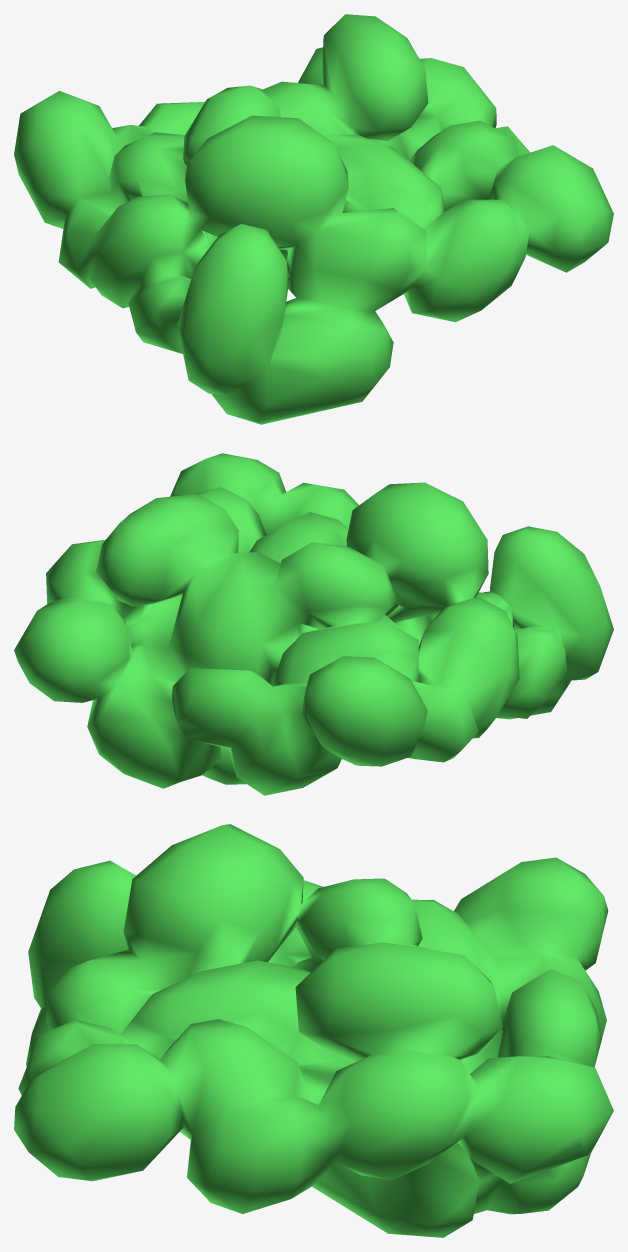
The model's file is SM_town_potatojoin.fbx.
3 views of the same model, one above another, from view 1: azimuth 30°, elevation 25°; view 2: azimuth 150°, elevation 25°; view 3: azimuth 270°, elevation 25° (orthographic). The views are drawn at different scales.
Parts seen in each view (by area): view 1: potato_low; view 2: potato_low; view 3: potato_low.
Part boxes in pixels (x1,y1,x2,y2): potato_low: [14, 14, 613, 424]; potato_low: [14, 453, 613, 795]; potato_low: [14, 824, 613, 1237].
Size of the model in its own units: 56.71 by 31.6 by 56.35.
